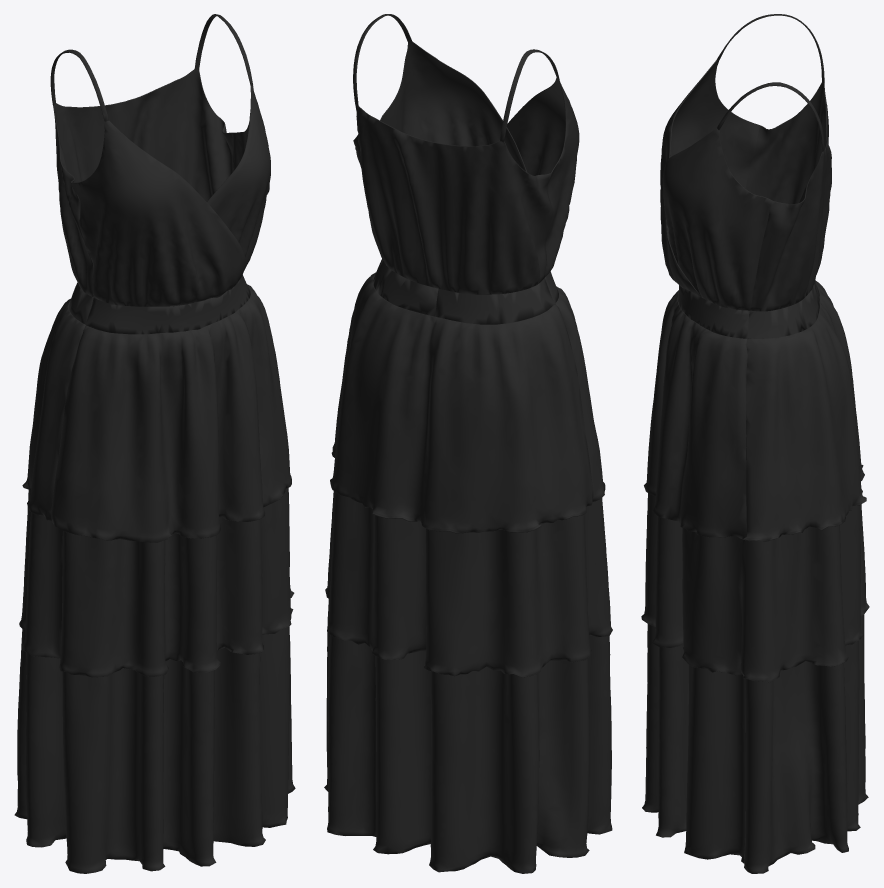
The picture shows the model from 3 angles, left to right: view 1: azimuth 30°, elevation 25°; view 2: azimuth 150°, elevation 25°; view 3: azimuth 270°, elevation 25°; orthographic projection. The views are drawn at different scales.
Visible parts, largest first — view 1: Object_5, Object_3, Object_4, Object_13, Object_7, Object_10, Object_8, Object_9, Object_11; view 2: Object_8, Object_10, Object_9, Object_7, Object_5, Object_13, Object_3, Object_4, Object_6; view 3: Object_7, Object_8, Object_10, Object_5, Object_3, Object_9, Object_4, Object_13, Object_6, Object_11.
Boxes of the visible parts, x1,y1,x2,y2 form: Object_5: [50, 14, 291, 542]; Object_3: [62, 627, 289, 873]; Object_4: [59, 488, 293, 677]; Object_13: [70, 120, 245, 306]; Object_7: [53, 69, 270, 306]; Object_10: [14, 629, 295, 847]; Object_8: [22, 298, 85, 520]; Object_9: [19, 490, 294, 658]; Object_11: [85, 275, 250, 334]; Object_8: [330, 272, 593, 533]; Object_10: [324, 599, 589, 873]; Object_9: [325, 491, 591, 677]; Object_7: [353, 41, 553, 294]; Object_5: [353, 14, 605, 501]; Object_13: [507, 77, 579, 276]; Object_3: [587, 635, 612, 834]; Object_4: [584, 498, 612, 637]; Object_6: [373, 259, 553, 316]; Object_7: [662, 82, 831, 311]; Object_8: [743, 280, 866, 541]; Object_10: [744, 614, 868, 873]; Object_5: [644, 14, 824, 539]; Object_3: [642, 624, 745, 863]; Object_9: [740, 504, 869, 682]; Object_4: [641, 493, 743, 675]; Object_13: [660, 60, 759, 296]; Object_6: [747, 283, 819, 338]; Object_11: [678, 285, 749, 338].
Size of the model in its own units: 423 by 1202 by 325.
Materials: 1 (1 with a texture image).
